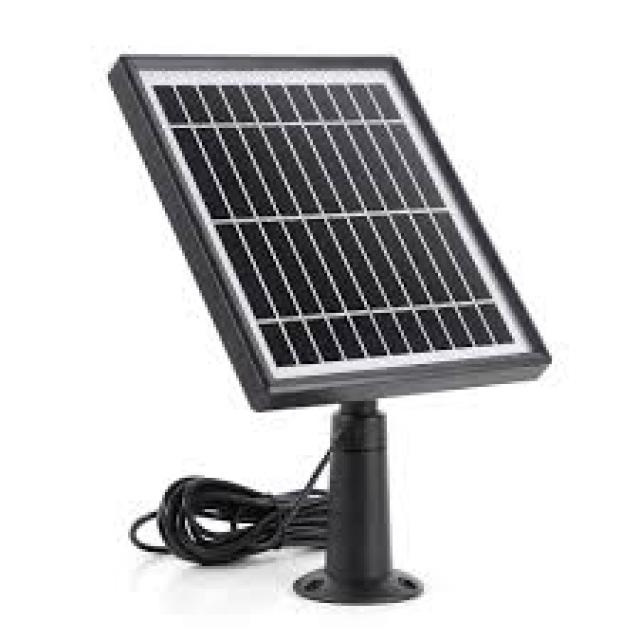no faulty: (163, 65, 510, 390)
